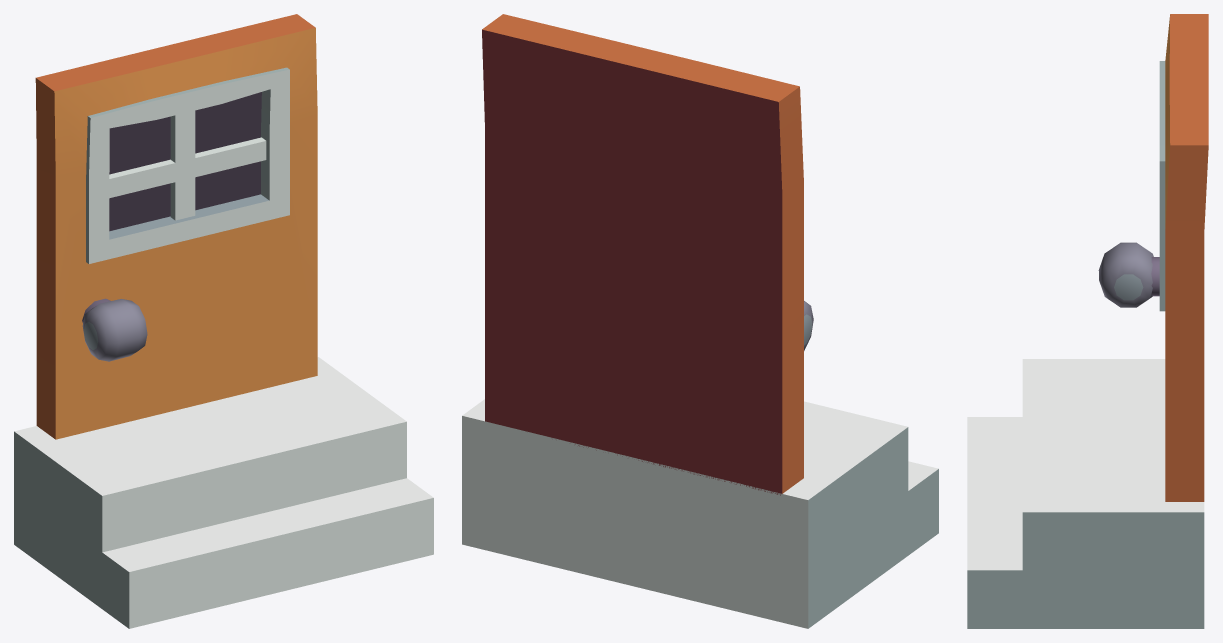
The model's file is Door02_Orange_White.glb.
3 renders of one model, left to right at view 1: azimuth 30°, elevation 25°; view 2: azimuth 150°, elevation 25°; view 3: azimuth 270°, elevation 25°, orthographic. The views are drawn at different scales.
Visible parts, largest first — view 1: Door02_Orange_White; view 2: Door02_Orange_White; view 3: Door02_Orange_White.
Boxes of the visible parts, x1,y1,x2,y2 form: Door02_Orange_White: (14, 14, 433, 628); Door02_Orange_White: (462, 14, 938, 628); Door02_Orange_White: (967, 14, 1208, 628).
Size of the model in its own units: 0.9795 by 1.41 by 0.6527.
1 material, 1 textured.
